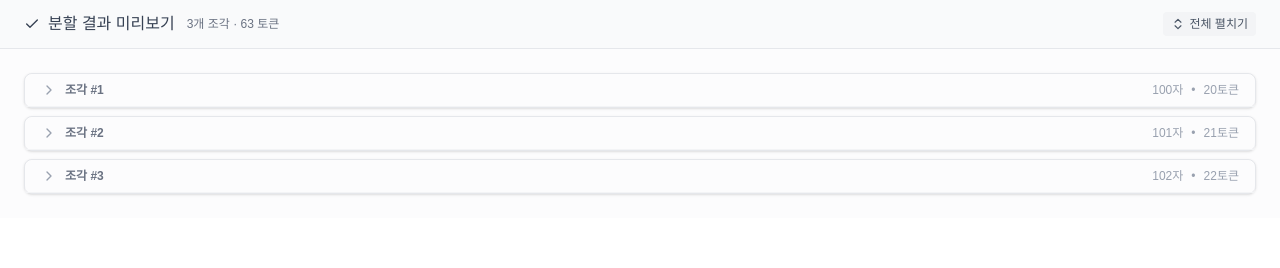
Scenario: ChunkPreviewList › Collapsible 기능 › 조각 헤더 클릭 시 내용이 펼쳐진다
Note: 조각 #1 헤더 클릭
Click the button "조각 #1 100자 • 20토큰".
click(81, 90)  # box [25,74,1255,107]
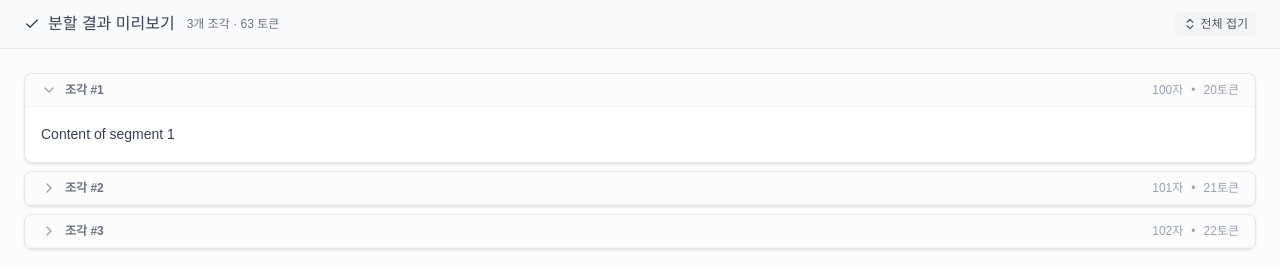
Now the text "Content of segment 1" is shown, box [41,126,175,142]
